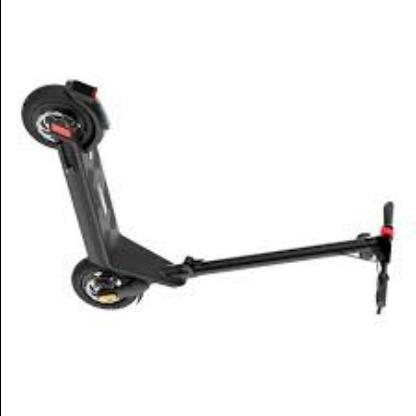bike: (21, 79, 405, 312)
